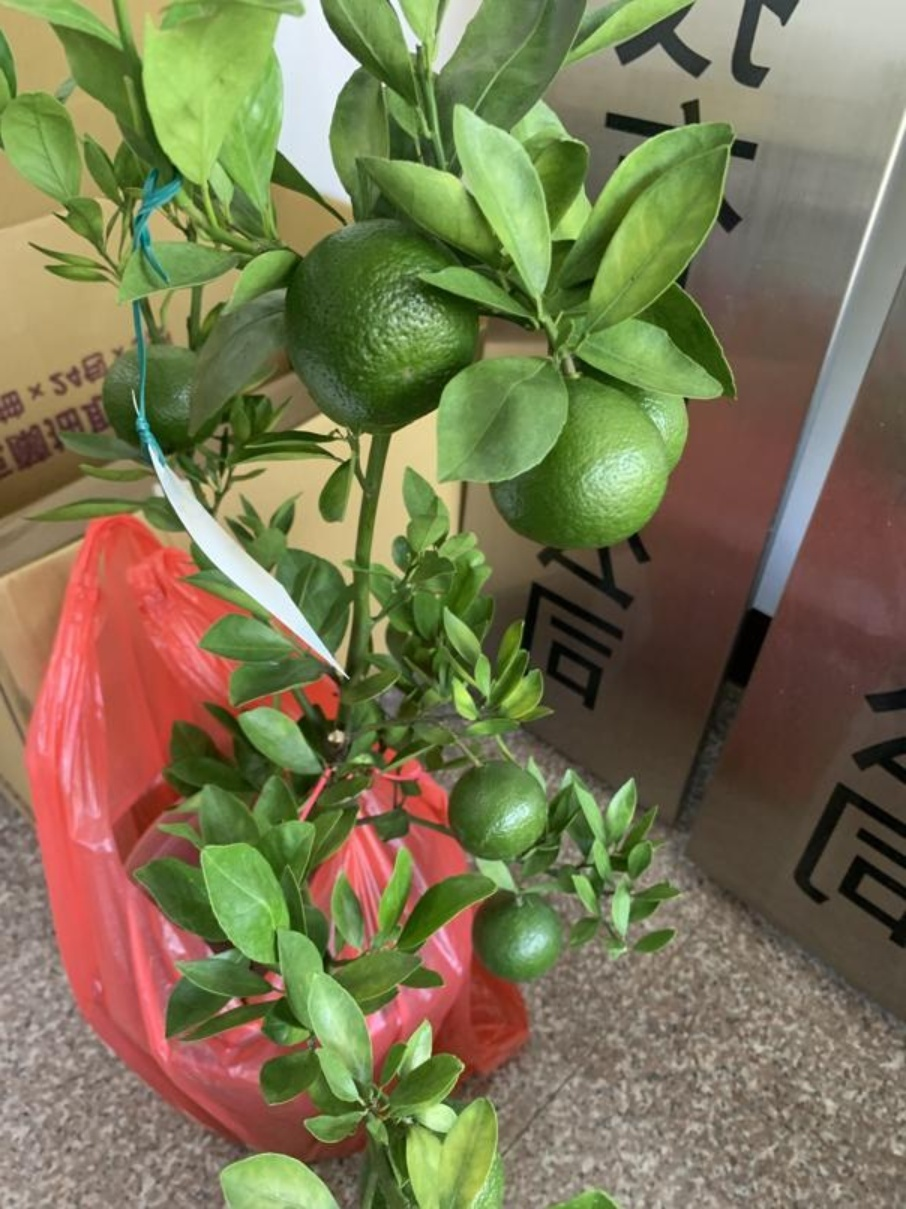Tangerine: (287, 212, 484, 437), (486, 369, 669, 546), (438, 752, 553, 865), (474, 887, 558, 983)
